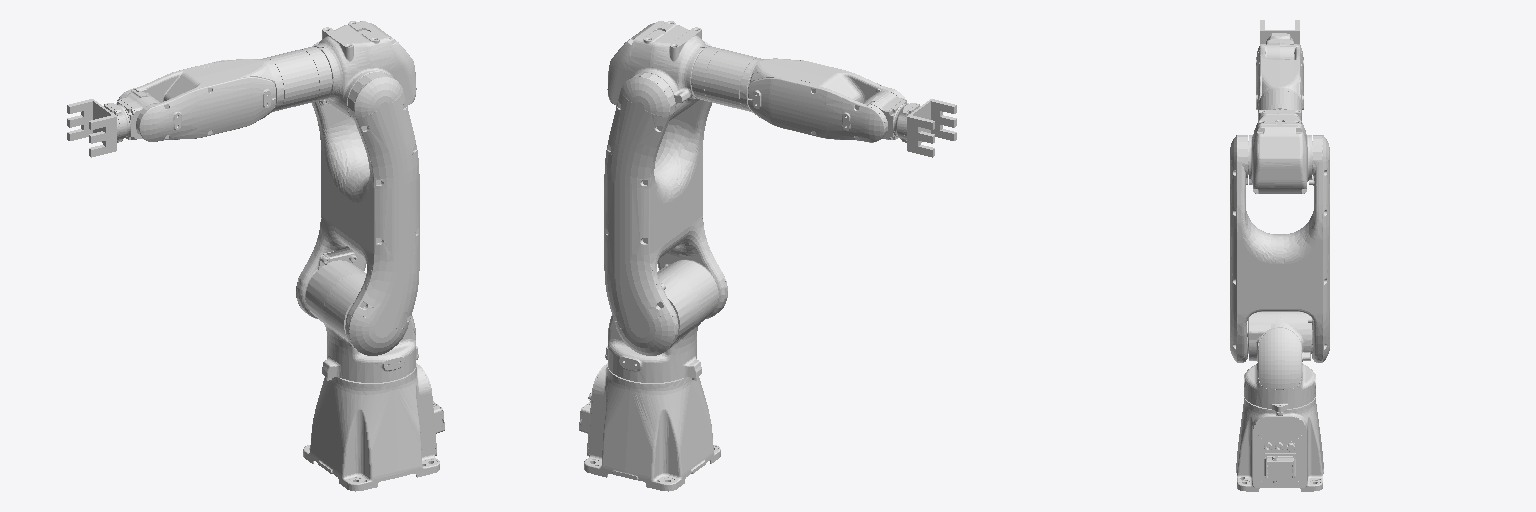
URDF robot description (Assem1):
<?xml version="1.0" encoding="utf-8"?>
<!-- This URDF was automatically created by SolidWorks to URDF Exporter! Originally created by Stephen Brawner (brawner@gmail.com) 
     Commit Version: 1.6.0-4-g7f85cfe  Build Version: 1.6.7995.38578
     For more information, please see http://wiki.ros.org/sw_urdf_exporter -->
<robot
  name="Assem1">
  <link
    name="base_link">
    <inertial>
      <origin
        xyz="0.00556892272739621 -6.27065509379752E-07 0.0947579647168589"
        rpy="0 0 0" />
      <mass
        value="5.21544079925593" />
      <inertia
        ixx="0.0260256781512776"
        ixy="-2.59247459054418E-05"
        ixz="-0.000139844593802777"
        iyy="0.0252950776511291"
        iyz="4.76784711524198E-05"
        izz="0.0217205299171922" />
    </inertial>
    <visual>
      <origin
        xyz="0 0 0"
        rpy="0 0 0" />
      <geometry>
        <mesh
          filename="package://Assem1/meshes/base_link.STL" />
      </geometry>
      <material
        name="">
        <color
          rgba="0.894117647058823 0.894117647058823 0.894117647058823 1" />
      </material>
    </visual>
    <collision>
      <origin
        xyz="0 0 0"
        rpy="0 0 0" />
      <geometry>
        <mesh
          filename="package://Assem1/meshes/base_link.STL" />
      </geometry>
    </collision>
  </link>
  <link
    name="link1">
    <inertial>
      <origin
        xyz="-0.0156718305527117 0.000134503632574314 0.0909494435463641"
        rpy="0 0 0" />
      <mass
        value="2.94469826367007" />
      <inertia
        ixx="0.0111813529969643"
        ixy="1.70296562644481E-06"
        ixz="0.00217925627367546"
        iyy="0.0119470130323578"
        iyz="-1.22527679828146E-06"
        izz="0.00886869029563989" />
    </inertial>
    <visual>
      <origin
        xyz="0 0 0"
        rpy="0 0 0" />
      <geometry>
        <mesh
          filename="package://Assem1/meshes/link1.STL" />
      </geometry>
      <material
        name="">
        <color
          rgba="0.894117647058823 0.894117647058823 0.894117647058823 1" />
      </material>
    </visual>
    <collision>
      <origin
        xyz="0 0 0"
        rpy="0 0 0" />
      <geometry>
        <mesh
          filename="package://Assem1/meshes/link1.STL" />
      </geometry>
    </collision>
  </link>
  <joint
    name="link0_to_link1_joint"
    type="revolute">
    <origin
      xyz="0 0 0.199000000000508"
      rpy="0 0 0" />
    <parent
      link="base_link" />
    <child
      link="link1" />
    <axis
      xyz="0 0 1" />
    <limit
      lower="-3.14"
      upper="3.14"
      effort="2"
      velocity="2" />
  </joint>
  <link
    name="link2">
    <inertial>
      <origin
        xyz="-0.0276252107318509 0.194988827430017 -0.000201924064720581"
        rpy="0 0 0" />
      <mass
        value="6.24055076634278" />
      <inertia
        ixx="0.126298777880261"
        ixy="-0.000192553439098959"
        ixz="4.29067873327294E-05"
        iyy="0.0277565781571922"
        iyz="0.000482848124259666"
        izz="0.110519548003228" />
    </inertial>
    <visual>
      <origin
        xyz="0 0 0"
        rpy="0 0 0" />
      <geometry>
        <mesh
          filename="package://Assem1/meshes/link2.STL" />
      </geometry>
      <material
        name="">
        <color
          rgba="0.894117647058823 0.894117647058823 0.894117647058823 1" />
      </material>
    </visual>
    <collision>
      <origin
        xyz="0 0 0"
        rpy="0 0 0" />
      <geometry>
        <mesh
          filename="package://Assem1/meshes/link2.STL" />
      </geometry>
    </collision>
  </link>
  <joint
    name="link1_to_link2_joint"
    type="revolute">
    <origin
      xyz="-0.0400000001871289 0 0.130999999999492"
      rpy="1.5707963267949 0 3.14159265358979" />
    <parent
      link="link1" />
    <child
      link="link2" />
    <axis
      xyz="0 0 -1" />
    <limit
      lower="-3.14"
      upper="3.14"
      effort="2"
      velocity="2" />
  </joint>
  <link
    name="link3">
    <inertial>
      <origin
        xyz="0.0200549894962703 0.0159086609244596 0.000853911286062742"
        rpy="0 0 0" />
      <mass
        value="2.84915106703938" />
      <inertia
        ixx="0.00693418510095249"
        ixy="0.000903674003992465"
        ixz="3.86443382149677E-05"
        iyy="0.00823186102679539"
        iyz="2.89656264033356E-05"
        izz="0.00779150668168677" />
    </inertial>
    <visual>
      <origin
        xyz="0 0 0"
        rpy="0 0 0" />
      <geometry>
        <mesh
          filename="package://Assem1/meshes/link3.STL" />
      </geometry>
      <material
        name="">
        <color
          rgba="0.894117647058823 0.894117647058823 0.894117647058823 1" />
      </material>
    </visual>
    <collision>
      <origin
        xyz="0 0 0"
        rpy="0 0 0" />
      <geometry>
        <mesh
          filename="package://Assem1/meshes/link3.STL" />
      </geometry>
    </collision>
  </link>
  <joint
    name="link2_to_link3_joint"
    type="revolute">
    <origin
      xyz="0 0.445000000000108 0"
      rpy="0 0 1.5707963267949" />
    <parent
      link="link2" />
    <child
      link="link3" />
    <axis
      xyz="0 0 -1" />
    <limit
      lower="-3.14"
      upper="3.14"
      effort="2"
      velocity="2" />
  </joint>
  <link
    name="link4">
    <inertial>
      <origin
        xyz="0.000150050822269487 0.000159742589693235 0.247766889303955"
        rpy="0 0 0" />
      <mass
        value="2.75543484796911" />
      <inertia
        ixx="0.0100849954230413"
        ixy="-1.17989427737781E-05"
        ixz="-8.23566325356412E-06"
        iyy="0.010784911689807"
        iyz="0.000318529263421957"
        izz="0.00308571663122744" />
    </inertial>
    <visual>
      <origin
        xyz="0 0 0"
        rpy="0 0 0" />
      <geometry>
        <mesh
          filename="package://Assem1/meshes/link4.STL" />
      </geometry>
      <material
        name="">
        <color
          rgba="0.894117647058823 0.894117647058823 0.894117647058823 1" />
      </material>
    </visual>
    <collision>
      <origin
        xyz="0 0 0"
        rpy="0 0 0" />
      <geometry>
        <mesh
          filename="package://Assem1/meshes/link4.STL" />
      </geometry>
    </collision>
  </link>
  <joint
    name="link3_to_link4_joint"
    type="revolute">
    <origin
      xyz="0.0399999999343005 0 0"
      rpy="1.5707963267949 0 0" />
    <parent
      link="link3" />
    <child
      link="link4" />
    <axis
      xyz="0 0 1" />
    <limit
      lower="-3.14"
      upper="3.14"
      effort="2"
      velocity="2" />
  </joint>
  <link
    name="llink5">
    <inertial>
      <origin
        xyz="-0.000230394399826195 -0.0132104934834168 -0.00175270168212115"
        rpy="0 0 0" />
      <mass
        value="0.245886292476196" />
      <inertia
        ixx="0.000139547969180005"
        ixy="-2.13471190815251E-06"
        ixz="-8.08863754810169E-07"
        iyy="0.000156835349412098"
        iyz="1.26386980425683E-06"
        izz="0.000185603510077084" />
    </inertial>
    <visual>
      <origin
        xyz="0 0 0"
        rpy="0 0 0" />
      <geometry>
        <mesh
          filename="package://Assem1/meshes/llink5.STL" />
      </geometry>
      <material
        name="">
        <color
          rgba="0.894117647058823 0.894117647058823 0.894117647058823 1" />
      </material>
    </visual>
    <collision>
      <origin
        xyz="0 0 0"
        rpy="0 0 0" />
      <geometry>
        <mesh
          filename="package://Assem1/meshes/llink5.STL" />
      </geometry>
    </collision>
  </link>
  <joint
    name="link4_to_llink5_joint"
    type="revolute">
    <origin
      xyz="0 0 0.442000000019422"
      rpy="-1.5707963267949 0 0" />
    <parent
      link="link4" />
    <child
      link="llink5" />
    <axis
      xyz="0.0132979211643477 0 -0.999911578737193" />
    <limit
      lower="-3.14"
      upper="3.14"
      effort="2"
      velocity="2" />
  </joint>
  <link
    name="link6">
    <inertial>
      <origin
        xyz="-2.87940494668737E-05 -1.00540120492793E-06 0.081357340227961"
        rpy="0 0 0" />
      <mass
        value="0.0556915724295805" />
      <inertia
        ixx="2.71257107858577E-05"
        ixy="-4.28639235525098E-16"
        ixz="-5.59217655473938E-09"
        iyy="1.87014120858917E-05"
        iyz="-8.0355204569625E-16"
        izz="4.31058718516138E-05" />
    </inertial>
    <visual>
      <origin
        xyz="0 0 0"
        rpy="0 0 0" />
      <geometry>
        <mesh
          filename="package://Assem1/meshes/link6.STL" />
      </geometry>
      <material
        name="">
        <color
          rgba="0.894117647058823 0.894117647058823 0.894117647058823 1" />
      </material>
    </visual>
    <collision>
      <origin
        xyz="0 0 0"
        rpy="0 0 0" />
      <geometry>
        <mesh
          filename="package://Assem1/meshes/link6.STL" />
      </geometry>
    </collision>
  </link>
  <joint
    name="link5_to_link6_joint"
    type="revolute">
    <origin
      xyz="0 0 0"
      rpy="1.5707963267949 0 0" />
    <parent
      link="llink5" />
    <child
      link="link6" />
    <axis
      xyz="0 0 -1" />
    <limit
      lower="-3.14"
      upper="3.14"
      effort="2"
      velocity="2" />
  </joint>
  <link
    name="link7">
    <inertial>
      <origin
        xyz="2.00117700188684E-12 -0.0222727272729961 0.039999999998471"
        rpy="0 0 0" />
      <mass
        value="0.0275" />
      <inertia
        ixx="6.00378787878787E-06"
        ixy="-6.74917024396029E-19"
        ixz="6.38681882100203E-16"
        iyy="1.30052083333333E-05"
        iyz="-1.82658583983808E-16"
        izz="1.85506628787879E-05" />
    </inertial>
    <visual>
      <origin
        xyz="0 0 0"
        rpy="0 0 0" />
      <geometry>
        <mesh
          filename="package://Assem1/meshes/link7.STL" />
      </geometry>
      <material
        name="">
        <color
          rgba="0.894117647058823 0.894117647058823 0.894117647058823 1" />
      </material>
    </visual>
    <collision>
      <origin
        xyz="0 0 0"
        rpy="0 0 0" />
      <geometry>
        <mesh
          filename="package://Assem1/meshes/link7.STL" />
      </geometry>
    </collision>
  </link>
  <joint
    name="link6_to_link7_joint"
    type="prismatic">
    <origin
      xyz="0 0 0.0874999999816384"
      rpy="-1.5707963267949 0 0" />
    <parent
      link="link6" />
    <child
      link="link7" />
    <axis
      xyz="0 0 1" />
    <limit
      lower="-0.025"
      upper="0"
      effort="2"
      velocity="2" />
  </joint>
  <link
    name="link8">
    <inertial>
      <origin
        xyz="-2.07123207474069E-12 -0.022272727270361 -0.0399999999979758"
        rpy="0 0 0" />
      <mass
        value="0.0275" />
      <inertia
        ixx="6.00378787878786E-06"
        ixy="-6.6550898325543E-19"
        ixz="6.38680841981585E-16"
        iyy="1.30052083333333E-05"
        iyz="-1.82659065229028E-16"
        izz="1.85506628787879E-05" />
    </inertial>
    <visual>
      <origin
        xyz="0 0 0"
        rpy="0 0 0" />
      <geometry>
        <mesh
          filename="package://Assem1/meshes/link8.STL" />
      </geometry>
      <material
        name="">
        <color
          rgba="0.894117647058823 0.894117647058823 0.894117647058823 1" />
      </material>
    </visual>
    <collision>
      <origin
        xyz="0 0 0"
        rpy="0 0 0" />
      <geometry>
        <mesh
          filename="package://Assem1/meshes/link8.STL" />
      </geometry>
    </collision>
  </link>
  <joint
    name="link6_to_link8_joint"
    type="prismatic">
    <origin
      xyz="0 0 0.0874999999816384"
      rpy="-1.5707963267949 0 0" />
    <parent
      link="link6" />
    <child
      link="link8" />
    <axis
      xyz="0 0 1" />
    <limit
      lower="0"
      upper="0.025"
      effort="2"
      velocity="2" />
  </joint>
</robot>

--- What the picture shows (computed from the rendered views, not written in the file) ---
Views: 3 orthographic renders of the robot side by side, from view 1: azimuth 30°, elevation 25°; view 2: azimuth 150°, elevation 25°; view 3: azimuth 270°, elevation 25°.
Robot: Assem1 — 9 links, 8 joints (6 revolute, 2 prismatic); root link base_link; default pose: every joint at zero.
Links seen in each view (by area): view 1: link2, base_link, link4, link1, link3, llink5, link8, link7; view 2: link2, base_link, link4, link1, link3, llink5, link7, link8; view 3: link2, base_link, link1, link3, link4, llink5.
Link boxes in pixels (x1=…): link2: x1=296, y1=41, x2=419, y2=355; base_link: x1=303, y1=354, x2=444, y2=491; link4: x1=118, y1=46, x2=331, y2=141; link1: x1=306, y1=260, x2=417, y2=382; link3: x1=314, y1=21, x2=416, y2=120; llink5: x1=104, y1=90, x2=159, y2=142; link8: x1=89, y1=115, x2=114, y2=157; link7: x1=67, y1=99, x2=92, y2=140; link2: x1=604, y1=41, x2=727, y2=355; base_link: x1=579, y1=354, x2=720, y2=491; link4: x1=692, y1=46, x2=905, y2=142; link1: x1=606, y1=260, x2=717, y2=382; link3: x1=607, y1=21, x2=709, y2=120; llink5: x1=863, y1=91, x2=919, y2=142; link7: x1=909, y1=115, x2=934, y2=157; link8: x1=931, y1=99, x2=956, y2=140; link2: x1=1230, y1=135, x2=1329, y2=362; base_link: x1=1236, y1=397, x2=1323, y2=491; link1: x1=1244, y1=312, x2=1315, y2=411; link3: x1=1248, y1=109, x2=1312, y2=193; link4: x1=1256, y1=44, x2=1303, y2=111; llink5: x1=1266, y1=33, x2=1293, y2=59.
Bounding box of the posed robot: 0.7568 × 0.23 × 0.877 m (x, y, z).
9 mesh visuals loaded from 9 distinct referenced files (9 binary STL).
